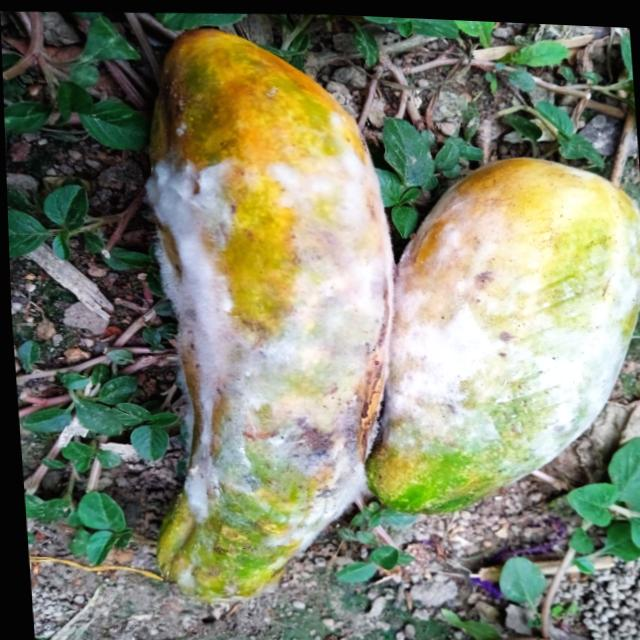Pythium-Fruit-Rot: (136, 104, 410, 609), (362, 170, 640, 484)
